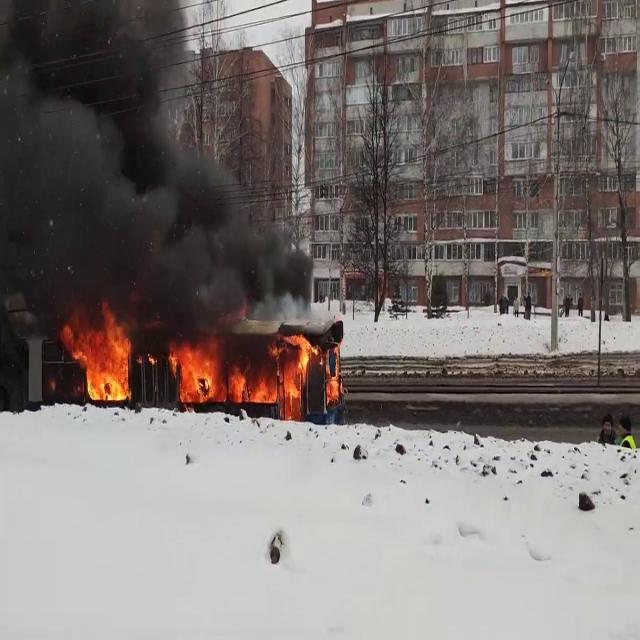Fire: (169, 327, 339, 412), (61, 307, 132, 403)
Smoke: (0, 0, 304, 325)
